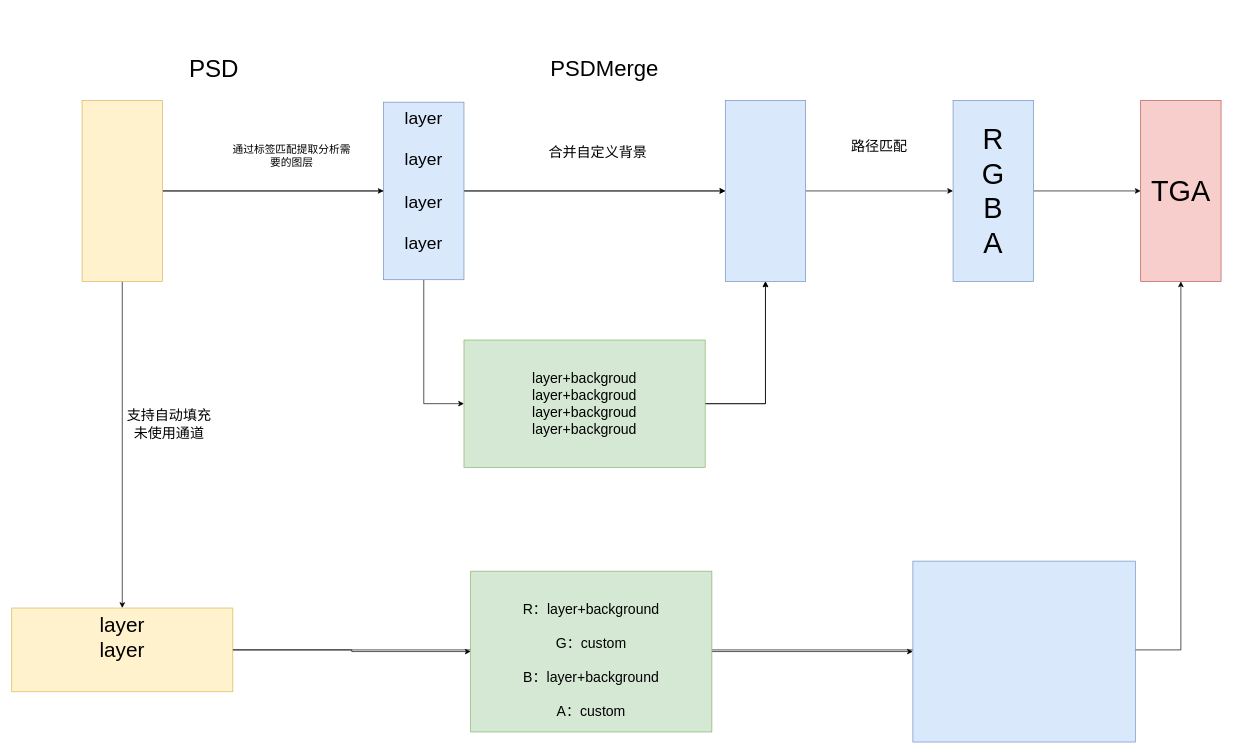
This 1233x754 diagram has some shape labels left out. Here are the shapes that lost their labels. From the top down, the centre of each, then its label:
At (x=121, y=190): "layer layer layer layer layer layer".
At (x=765, y=190): "layer merge".
At (x=1023, y=651): "R G（custom） B A（custom）".
